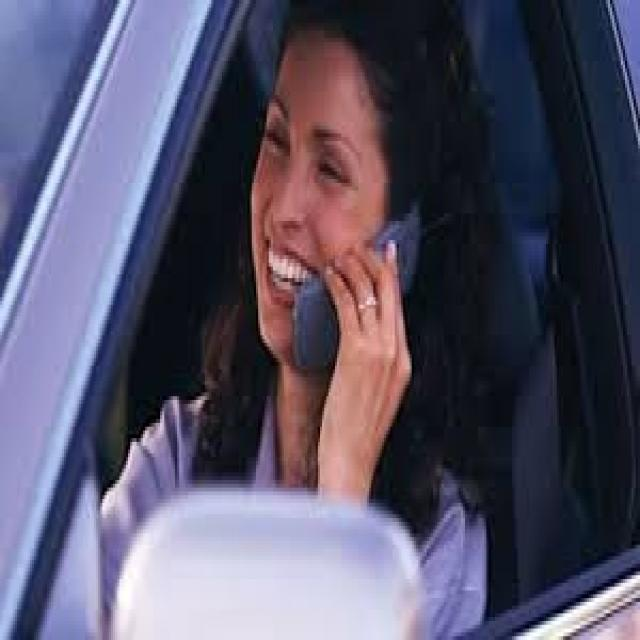Cellphone_calling: (290, 186, 431, 464)
